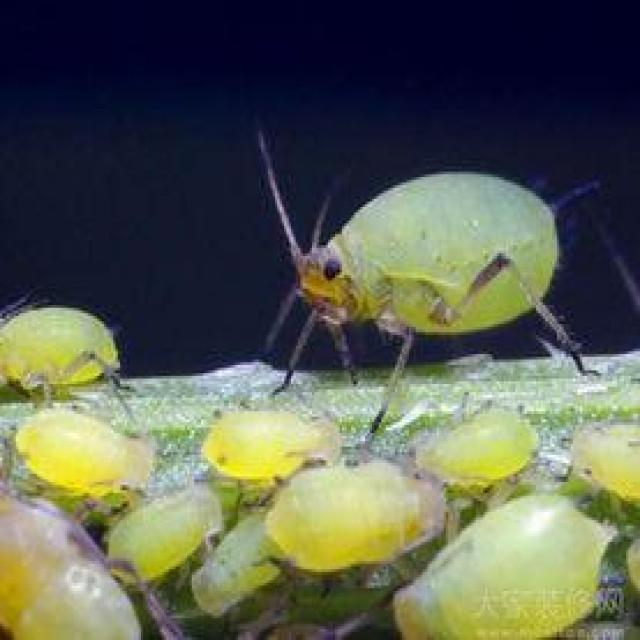Aphids: (15, 382, 639, 625), (211, 94, 632, 421)
